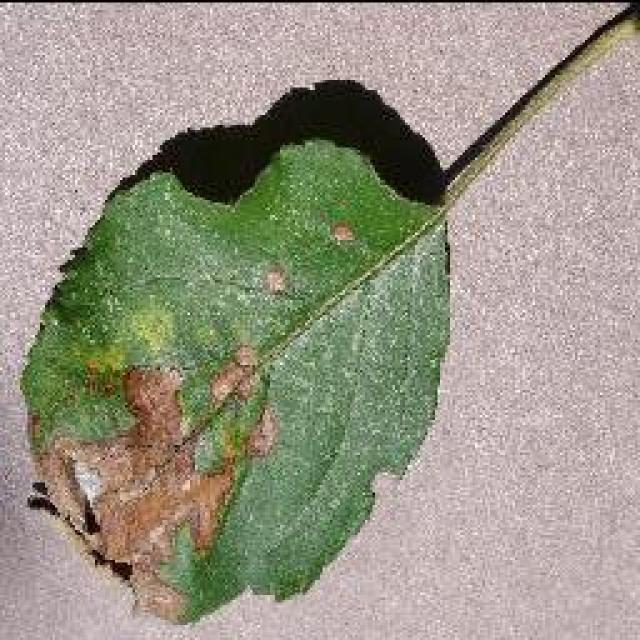Black_rot: (18, 0, 638, 625)
